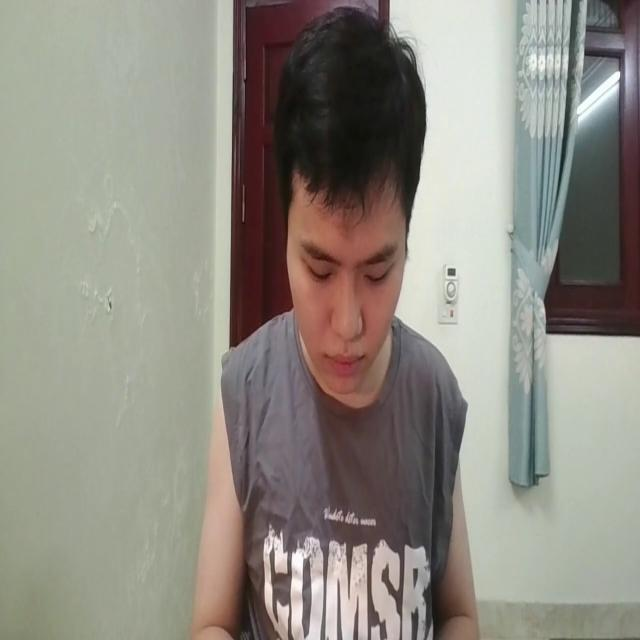student: (196, 15, 477, 640)
